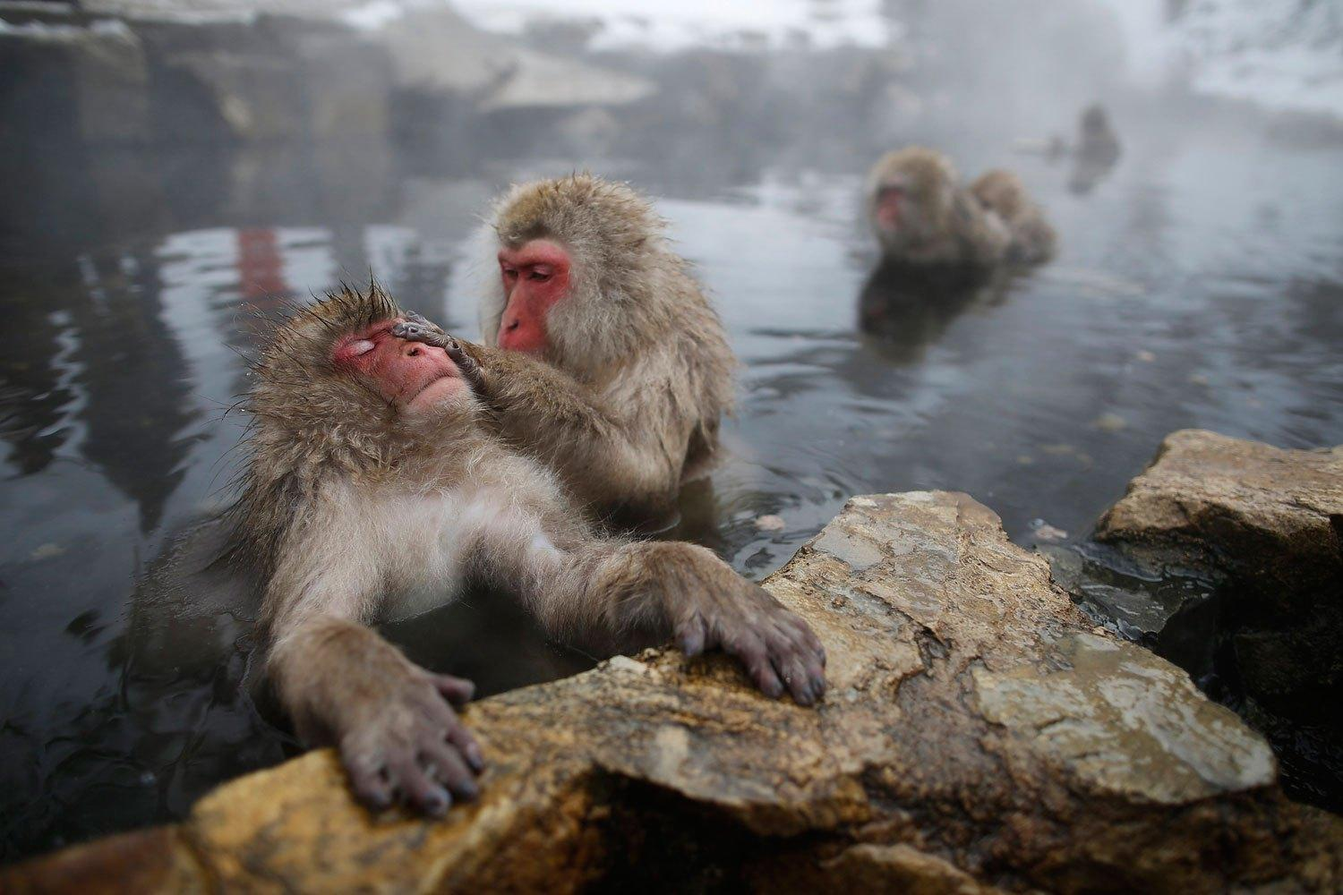monkey: (133, 175, 829, 822)
